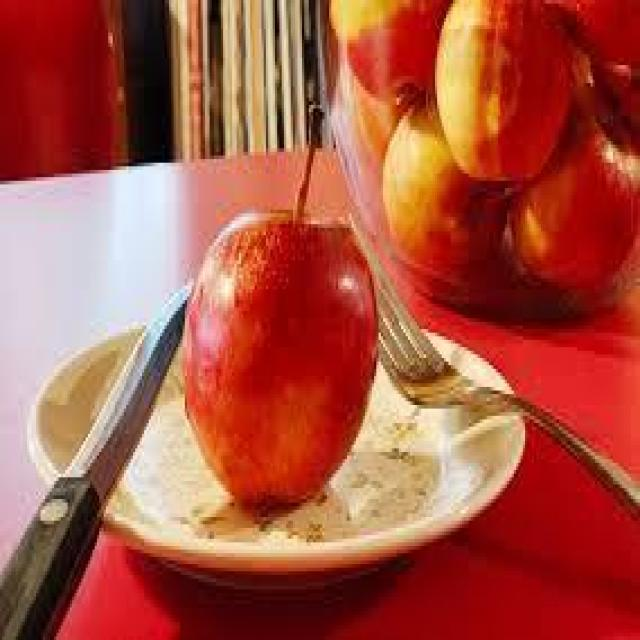maca: (168, 155, 382, 519), (430, 0, 577, 184), (527, 86, 640, 287)
